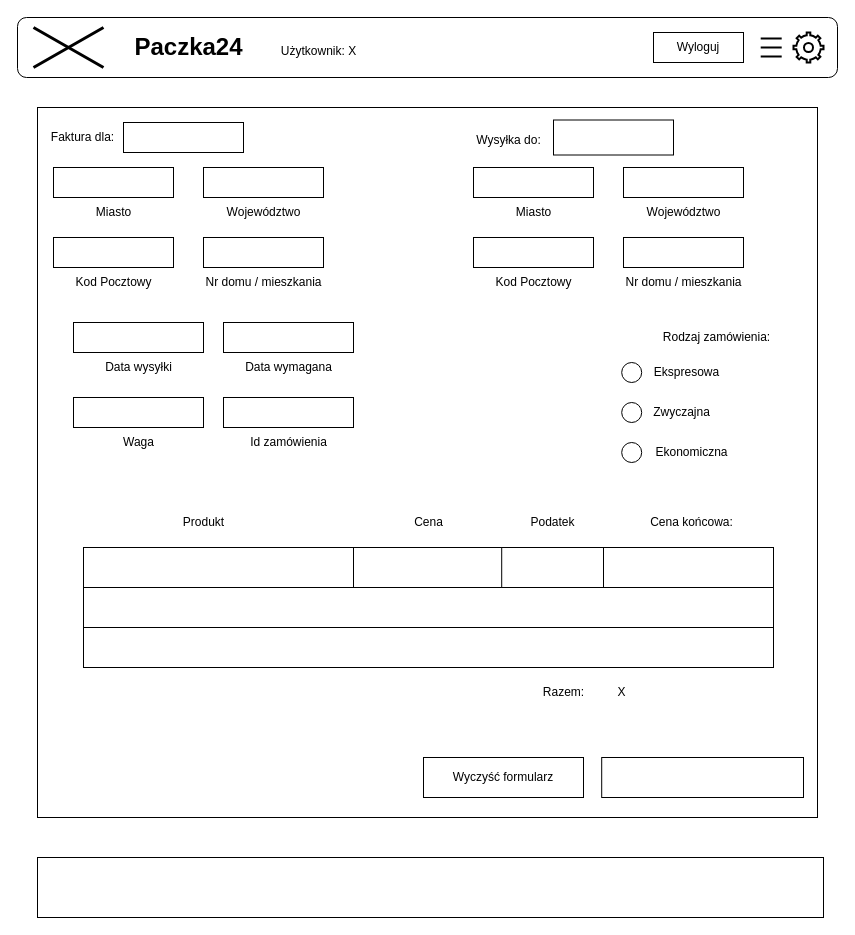
This 855x935 diagram has some shape labels left out. The shapes that lost their labels are listed below. From the top down, each one's centre as x and y in pixels, then its label:
the point at 702,777: Prześlij formularz i wydrukuj potwierdzenie
the point at 430,887: Zarządzaj przesyłkami
